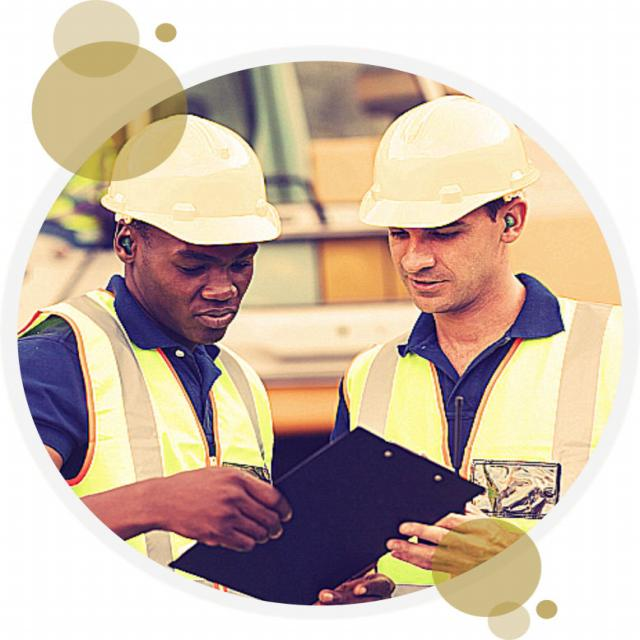Reflective-Jacket: (335, 287, 635, 594), (26, 296, 272, 560)
Safety-Helmet: (353, 92, 542, 232), (97, 112, 286, 249)
